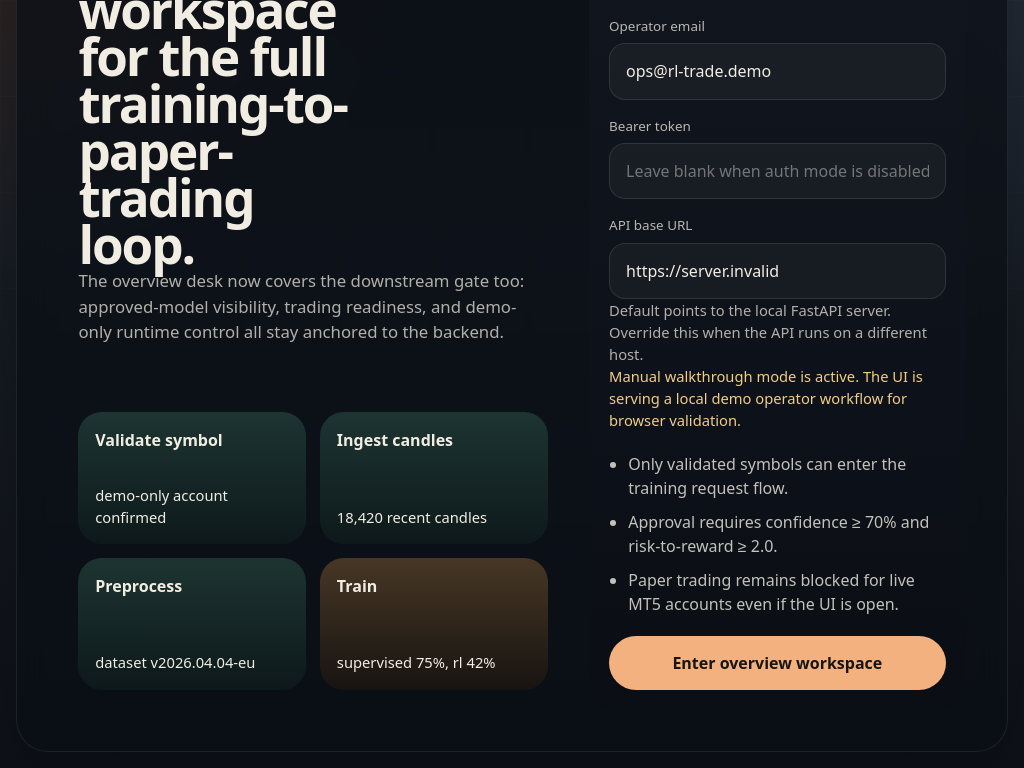
Test: frontend workspace smoke tests › renders the models view from the workspace hash
(page scrolled)
What coordinates should you click on to do the following:
click the button "Enter overview workspace"
I would click on:
 (777, 663)
Its box is [609,636,946,690].
(page scrolled)
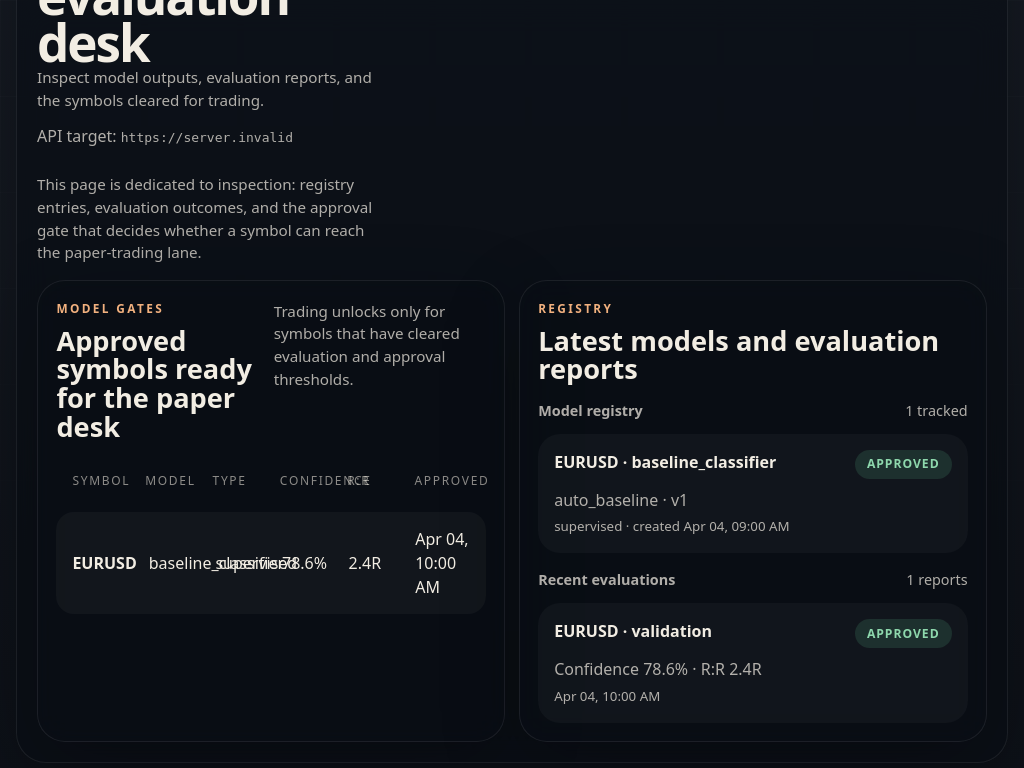
Expected: the heading "Latest models and evaluation reports" is shown, [538,327,968,384]
Expected: the heading "Approved symbols ready for the paper desk" is shown, [56,327,258,441]
